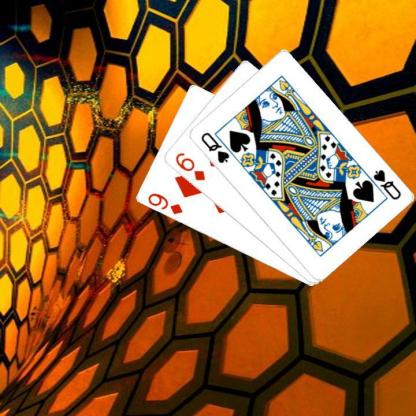6D: (172, 150, 206, 182)
9D: (144, 190, 184, 216)
QS: (198, 130, 231, 165), (370, 167, 402, 202)
